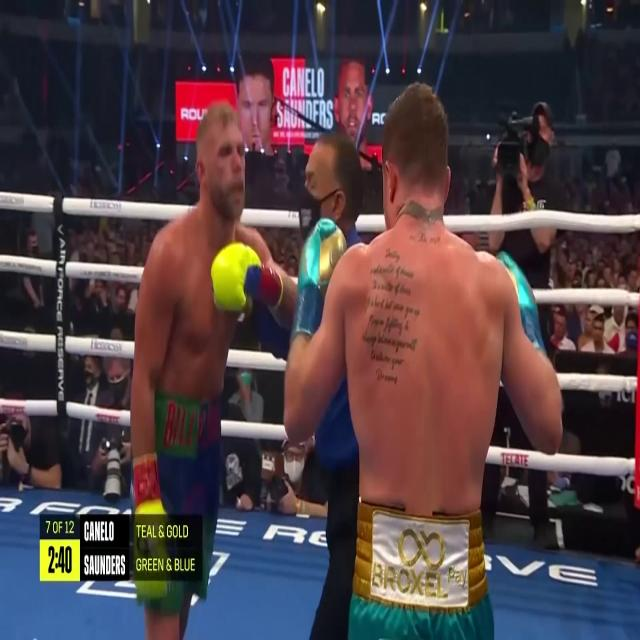boxer_1: (159, 103, 244, 395)
boxer_2: (346, 85, 512, 517)
gloves_1: (133, 454, 169, 603), (211, 243, 282, 314)
gloves_2: (294, 217, 347, 335), (497, 251, 551, 357)
